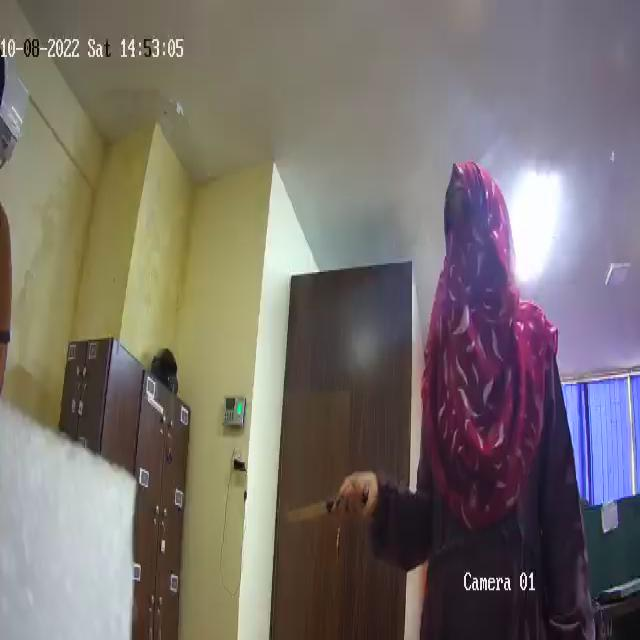Knife: (276, 476, 373, 532)
